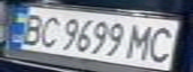6: (72, 17, 93, 54)
9: (103, 19, 130, 58), (54, 16, 81, 52), (90, 18, 112, 56)
B: (15, 10, 48, 46)
C: (142, 24, 184, 63), (33, 12, 63, 48)
M: (124, 20, 160, 61)
